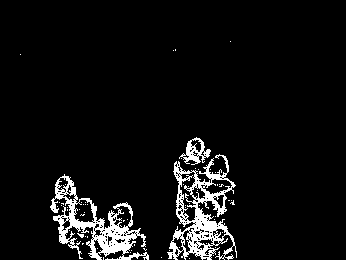person: (164, 199, 240, 260), (171, 134, 211, 224), (90, 202, 149, 260), (194, 153, 237, 224), (61, 198, 105, 260)
